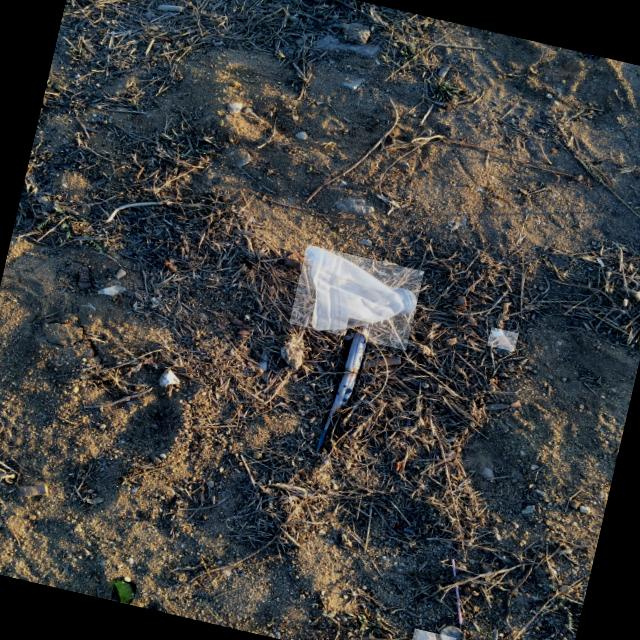Cigarette: (490, 329, 513, 351)
Clear plastic bottle: (304, 246, 415, 330)
Other plastic bottle: (451, 560, 461, 622)
Unlabeled litter: (318, 324, 371, 449), (113, 581, 135, 603)
